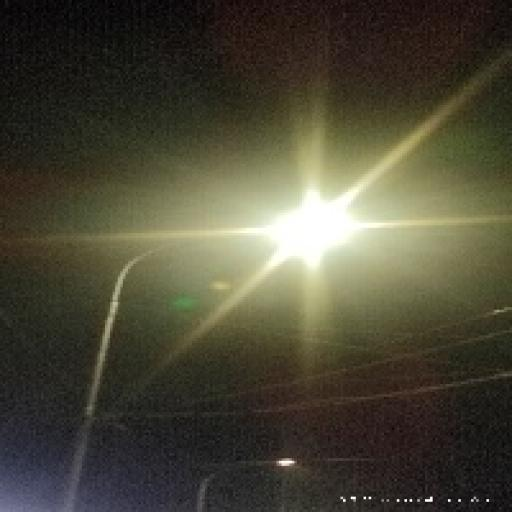Working: (251, 182, 380, 276), (270, 451, 298, 473)
